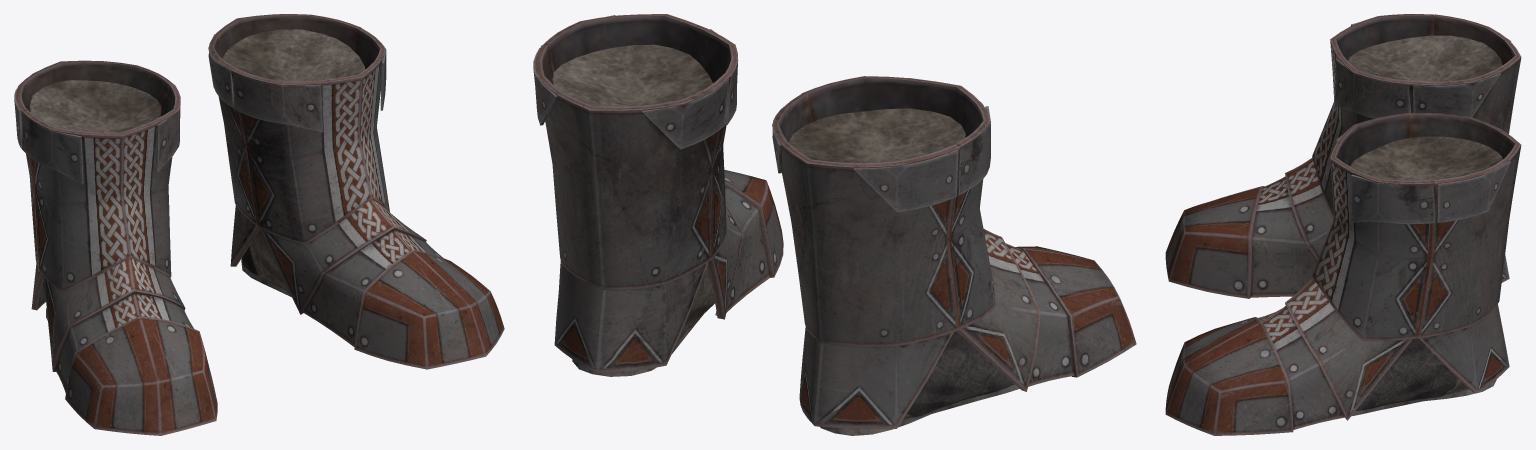
The model's file is sk_dwarf_iron_boots_lord_c2.fbx.
The picture shows the model from 3 angles, left to right: view 1: azimuth 30°, elevation 25°; view 2: azimuth 150°, elevation 25°; view 3: azimuth 270°, elevation 25°; orthographic projection. The views are drawn at different scales.
Parts seen in each view (by area): view 1: sk_dwarf_iron_boots_lord_c2; view 2: sk_dwarf_iron_boots_lord_c2; view 3: sk_dwarf_iron_boots_lord_c2.
Boxes of the visible parts, left/top/right/bottom form: sk_dwarf_iron_boots_lord_c2: left=14, top=14, right=504, bottom=435; sk_dwarf_iron_boots_lord_c2: left=533, top=14, right=1136, bottom=435; sk_dwarf_iron_boots_lord_c2: left=1165, top=14, right=1521, bottom=435.
Bounding box in the file's own units: 0.5801 × 0.4277 × 0.3159.
Materials: 1 (1 with a texture image).
